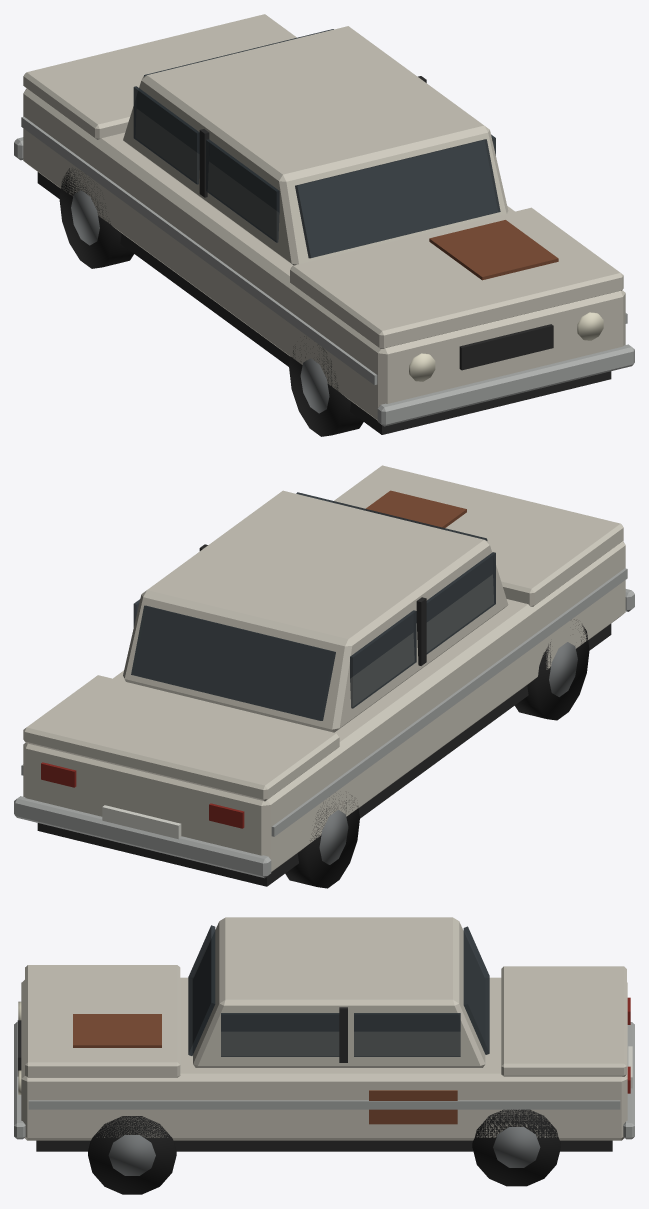
The model's file is car_white.glb.
The picture shows the model from 3 angles, top to bottom: view 1: azimuth 30°, elevation 25°; view 2: azimuth 150°, elevation 25°; view 3: azimuth 270°, elevation 25°; orthographic projection. The views are drawn at different scales.
Parts seen in each view (by area): view 1: Car; view 2: Car; view 3: Car.
Part boxes in pixels (<box>): Car: <box>14,14,634,436</box>; Car: <box>14,465,634,888</box>; Car: <box>14,917,634,1194</box>.
Bounding box in the file's own units: 1.66 × 1.38 × 4.2.
